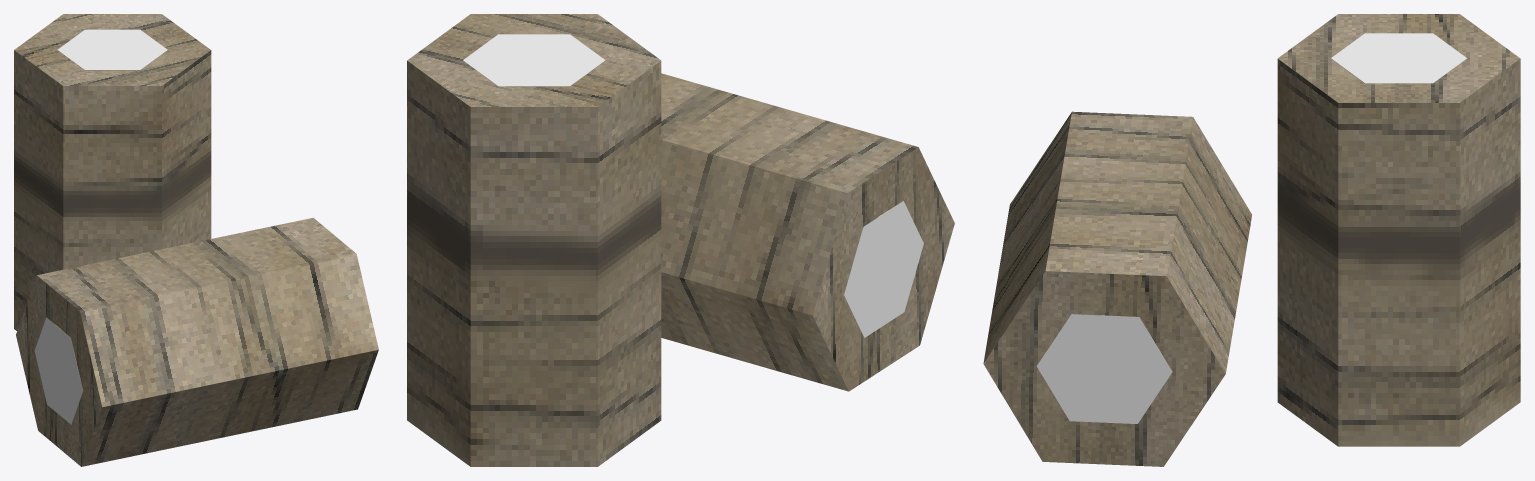
The model's file is health_kit_small.glb.
The picture shows the model from 3 angles, left to right: view 1: azimuth 30°, elevation 25°; view 2: azimuth 150°, elevation 25°; view 3: azimuth 270°, elevation 25°; orthographic projection. The views are drawn at different scales.
Parts seen in each view (by area): view 1: Cylinder.003; view 2: Cylinder.003; view 3: Cylinder.003.
Boxes of the visible parts, <box> form: Cylinder.003: <box>14,14,378,466</box>; Cylinder.003: <box>407,14,954,466</box>; Cylinder.003: <box>983,14,1520,466</box>.
Size of the model in its own units: 0.1882 by 0.1813 by 0.2557.
Materials: 4 (4 with a texture image).
